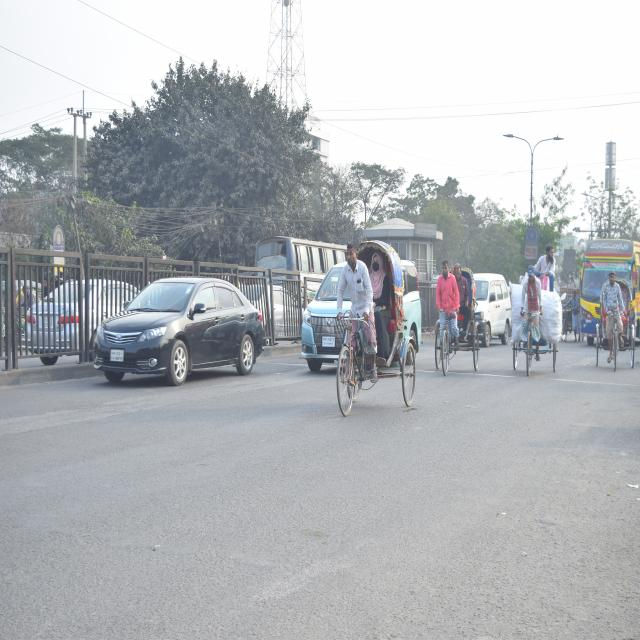bus: (581, 225, 640, 355), (254, 230, 353, 278)
car: (97, 274, 266, 392), (26, 268, 120, 359)
microbus: (306, 260, 426, 364), (477, 264, 512, 352)
